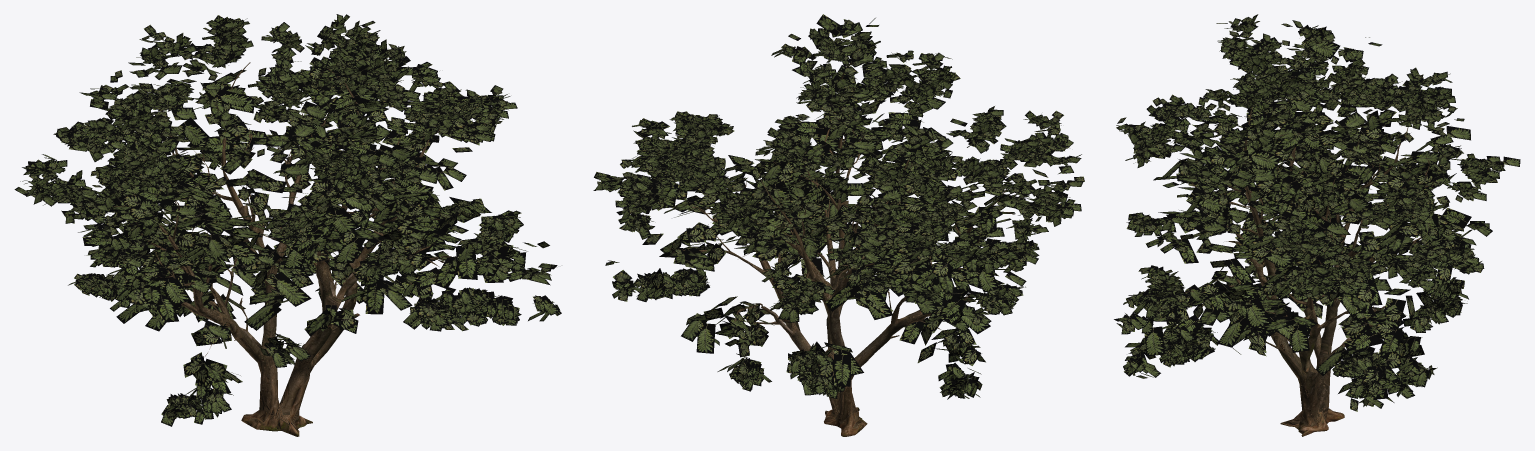
Rendered from jacaranda_tree.glb.
The picture shows the model from 3 angles, left to right: view 1: azimuth 30°, elevation 25°; view 2: azimuth 150°, elevation 25°; view 3: azimuth 270°, elevation 25°; orthographic projection. The views are drawn at different scales.
Visible parts, largest first — view 1: jacaranda_tree_LOD0; view 2: jacaranda_tree_LOD0; view 3: jacaranda_tree_LOD0.
Boxes of the visible parts, x1,y1,x2,y2 form: jacaranda_tree_LOD0: [14, 14, 561, 436]; jacaranda_tree_LOD0: [593, 14, 1084, 436]; jacaranda_tree_LOD0: [1114, 14, 1520, 436].
Size of the model in its own units: 8.75 by 7.02 by 6.91.
Materials: 3 (3 with a texture image).
